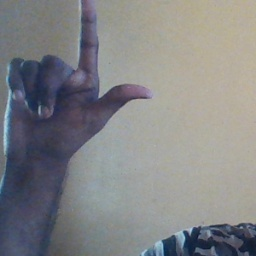L: (3, 2, 154, 151)
